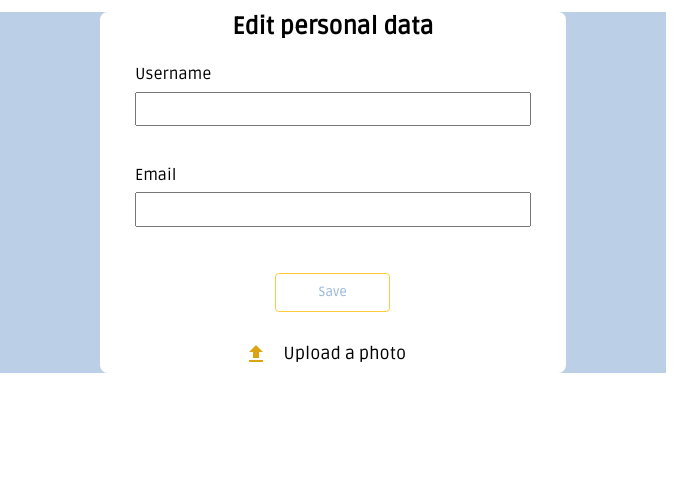
should upload file
Click the button "Upload a photo": (345, 354) [268,335,422,373]
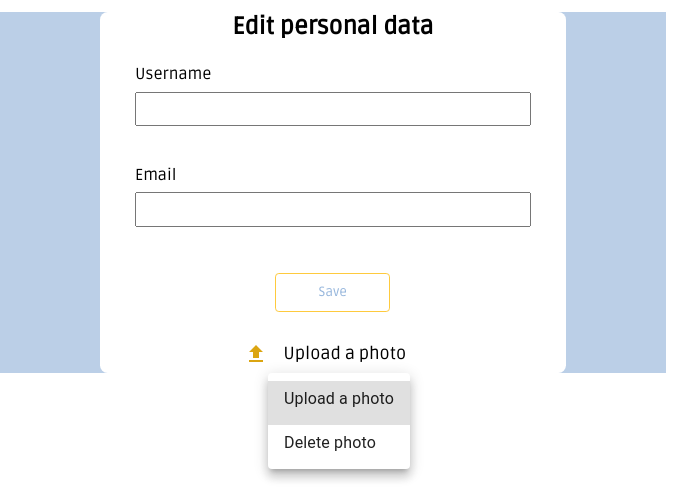
Result: the file field labelled "Upload a photo" is shown at [284,387,394,411]
